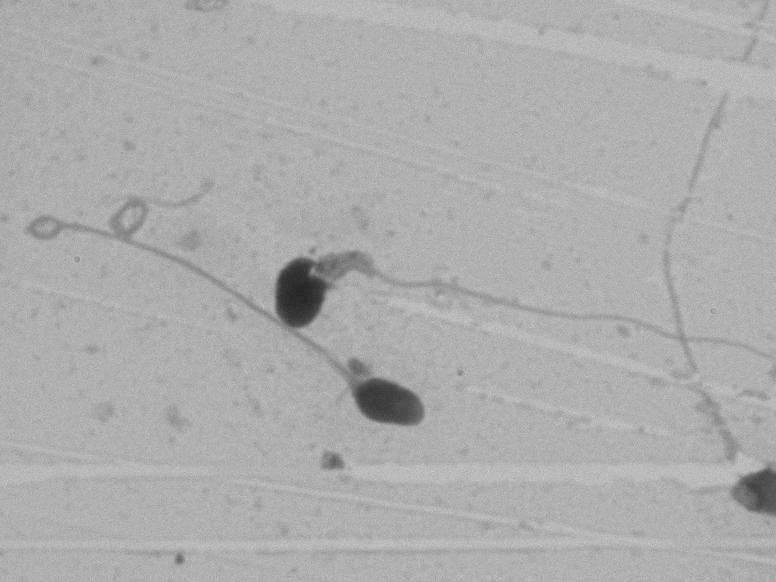Abnormal: (28, 134, 440, 466)
